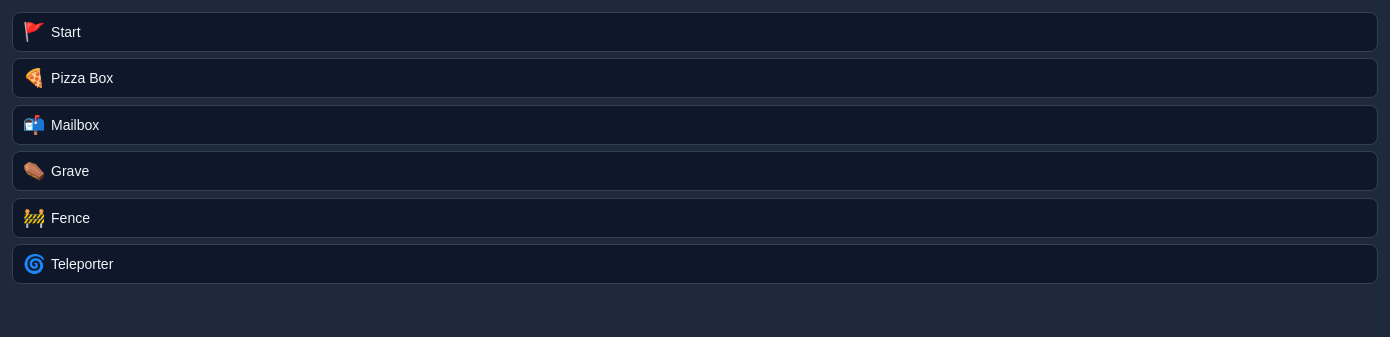
Test: TilePalette › teleporter expands to show shapes
The image size is (1390, 337).
Click the text "Teleporter". click: (82, 264)
box: [51,256,113,272]
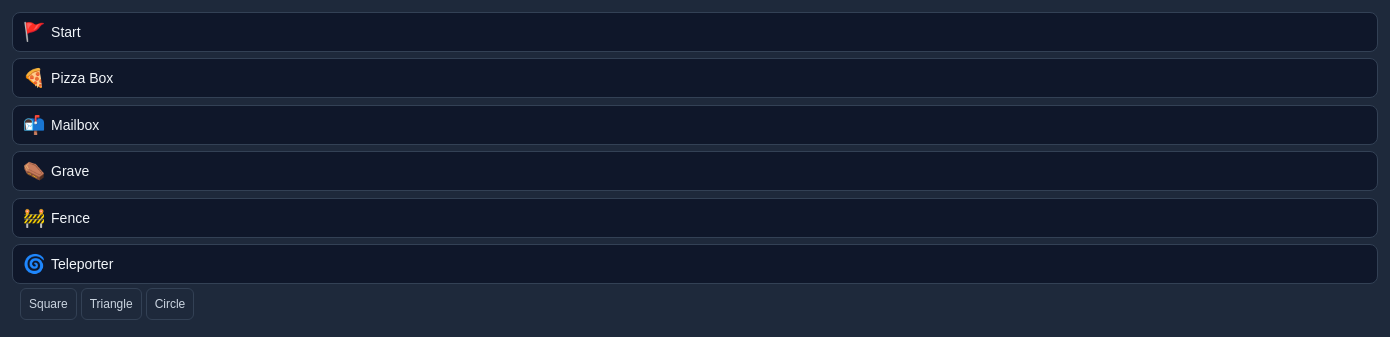
Expected: the button "square" is shown, [20,288,77,320]
Expected: the button "triangle" is shown, [81,288,142,320]
Expected: the button "circle" is shown, [146,288,194,320]
